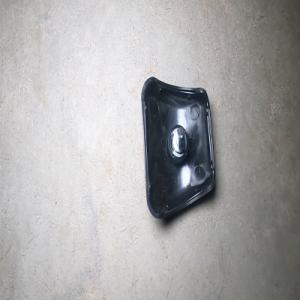LuggagePart: (139, 74, 217, 220)
